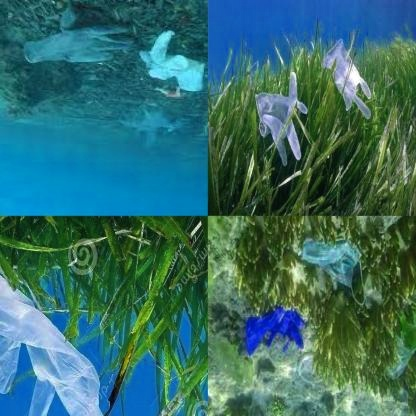Mask: (298, 235, 373, 319)
glove: (0, 261, 120, 415), (154, 240, 208, 415), (21, 6, 126, 68), (252, 61, 309, 168), (321, 37, 374, 123), (238, 303, 310, 359), (137, 30, 198, 93), (267, 346, 326, 394)
